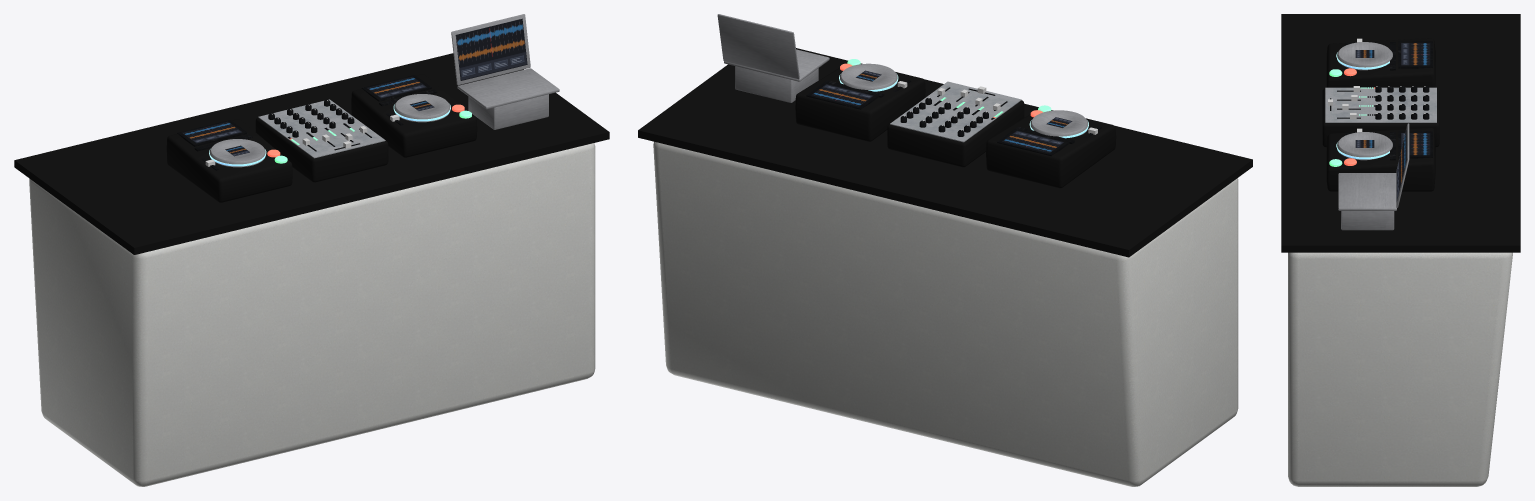
Rendered from dj_booth_shroud.gltf.
The picture shows the model from 3 angles, left to right: view 1: azimuth 30°, elevation 25°; view 2: azimuth 150°, elevation 25°; view 3: azimuth 270°, elevation 25°; orthographic projection. The views are drawn at different scales.
Visible parts, largest first — view 1: dj_booth_shroud; view 2: dj_booth_shroud; view 3: dj_booth_shroud.
Part boxes in pixels (<box>): dj_booth_shroud: <box>14,14,609,486</box>; dj_booth_shroud: <box>638,14,1252,486</box>; dj_booth_shroud: <box>1281,14,1520,486</box>.
Bounding box in the file's own units: 2.06 × 1.35 × 0.9.
Materials: 10 (6 with a texture image).
